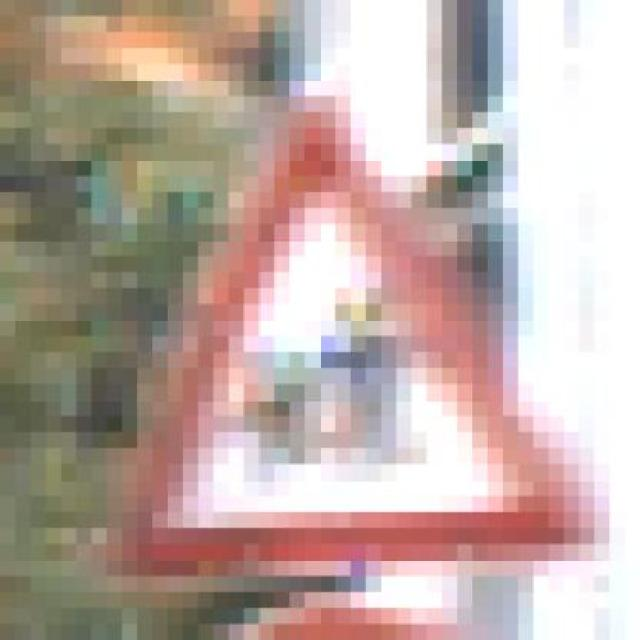Beware of children: (107, 80, 610, 592)
